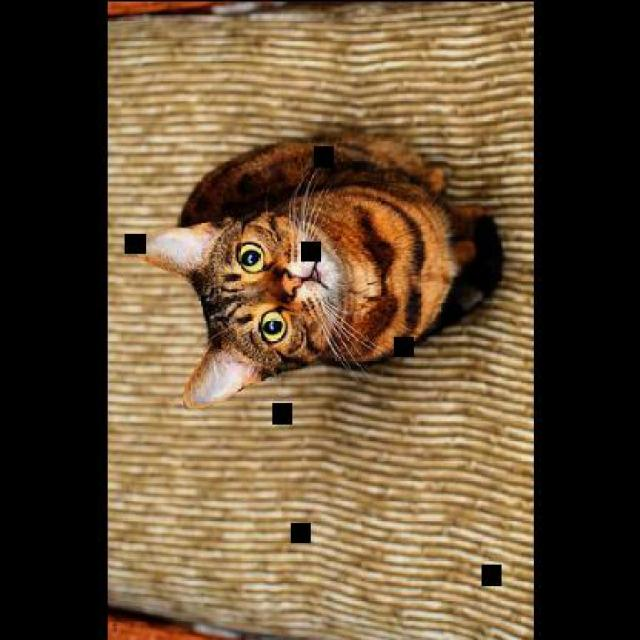unauthorized: (123, 129, 503, 411)
